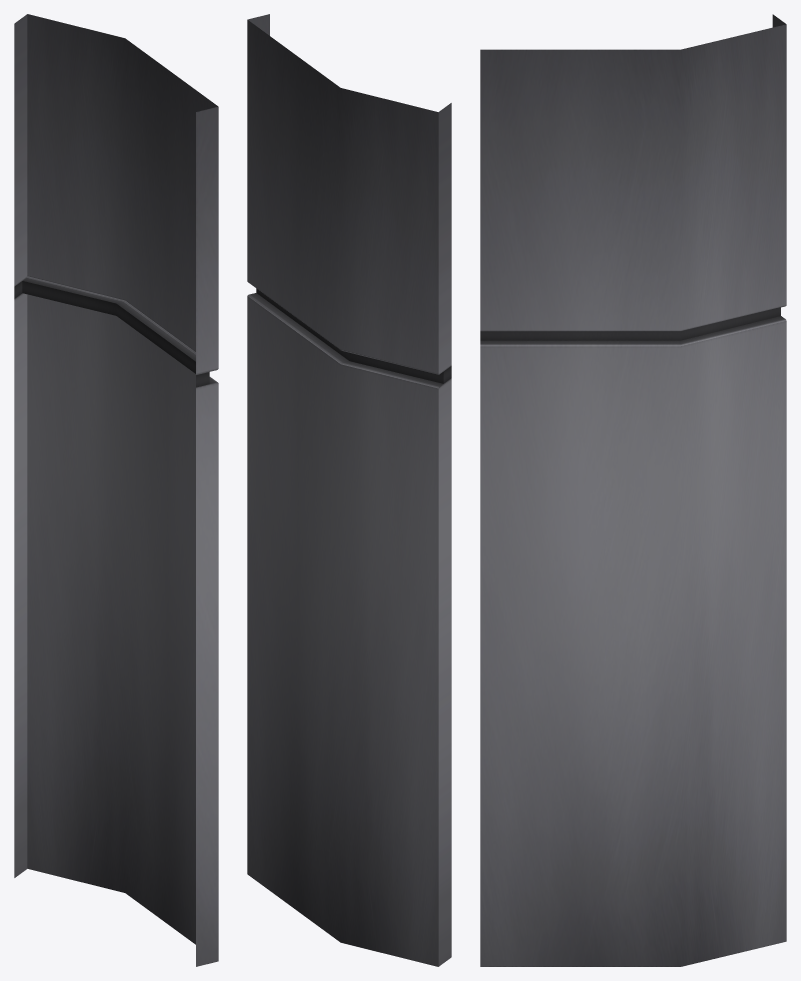
The model's file is XOB_LOT_HB.fbx.
3 views of the same model, side by side, from view 1: azimuth 30°, elevation 25°; view 2: azimuth 210°, elevation 25°; view 3: azimuth 270°, elevation 25° (orthographic). The views are drawn at different scales.
Visible parts, largest first — view 1: XOB_LOT_HB; view 2: XOB_LOT_HB; view 3: XOB_LOT_HB.
Boxes of the visible parts, bbox=[...] form: XOB_LOT_HB: bbox=[14, 14, 218, 966]; XOB_LOT_HB: bbox=[247, 14, 451, 966]; XOB_LOT_HB: bbox=[480, 14, 786, 966].
Bounding box in the file's own units: 0.375 × 4.5 × 1.36.
